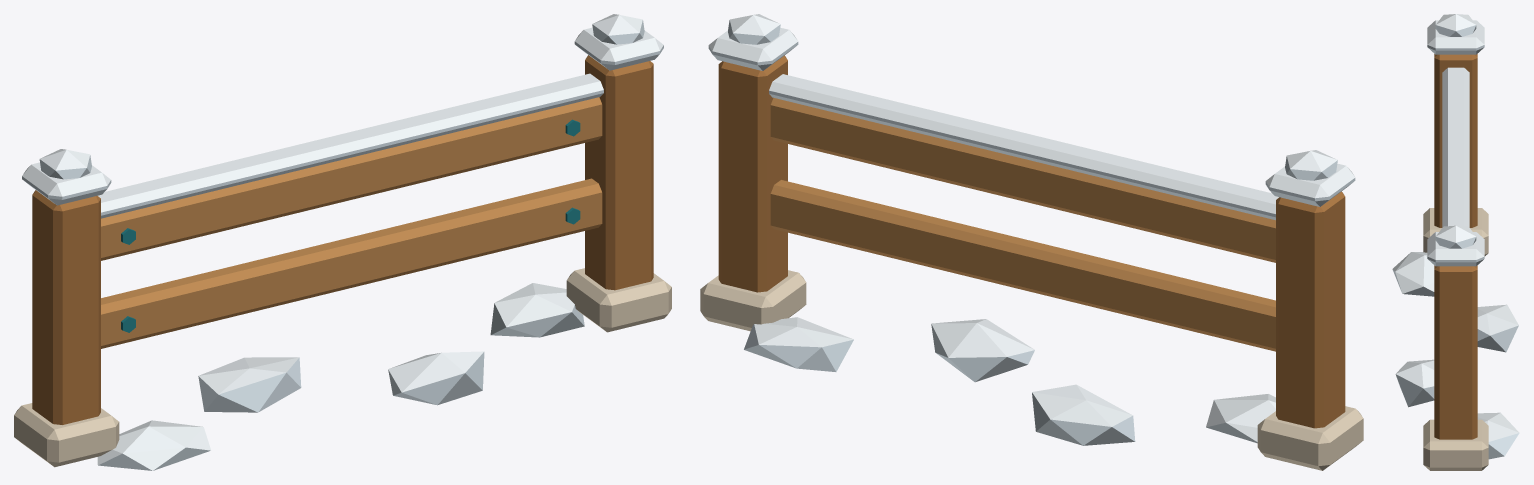
File: low_boundary_fence.glb
3 renders of one model, left to right at view 1: azimuth 30°, elevation 25°; view 2: azimuth 150°, elevation 25°; view 3: azimuth 270°, elevation 25°, orthographic. The views are drawn at different scales.
Parts seen in each view (by area): view 1: low_boundary_fence; view 2: low_boundary_fence; view 3: low_boundary_fence.
Part boxes in pixels (x1,y1,x2,y2): low_boundary_fence: [14, 14, 671, 470]; low_boundary_fence: [700, 14, 1363, 470]; low_boundary_fence: [1392, 14, 1519, 470].
Size of the model in its own units: 2.08 by 1.02 by 0.4678.
